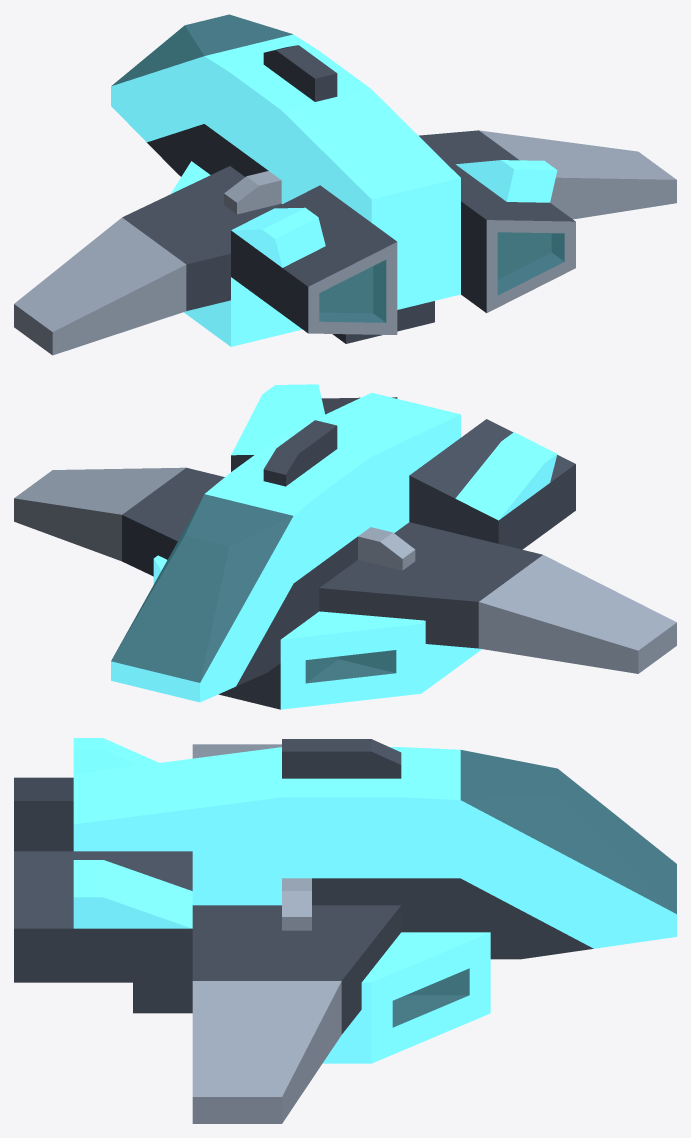
The model's file is craft_speederD.glb.
3 renders of one model, top to bottom at view 1: azimuth 30°, elevation 25°; view 2: azimuth 150°, elevation 25°; view 3: azimuth 270°, elevation 25°, orthographic. The views are drawn at different scales.
Parts seen in each view (by area): view 1: craft_speederD; view 2: craft_speederD; view 3: craft_speederD.
Part boxes in pixels (x1,y1,x2,y2): craft_speederD: (14,14,676,355); craft_speederD: (14,384,676,709); craft_speederD: (14,738,676,1123).
Size of the model in its own units: 2.8 by 0.9 by 2.23.
